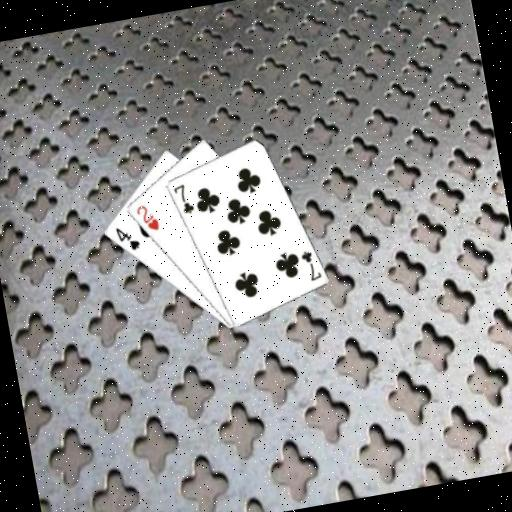2H: (132, 200, 161, 235)
4S: (112, 221, 142, 254)
7C: (296, 246, 323, 284), (169, 180, 196, 217)
